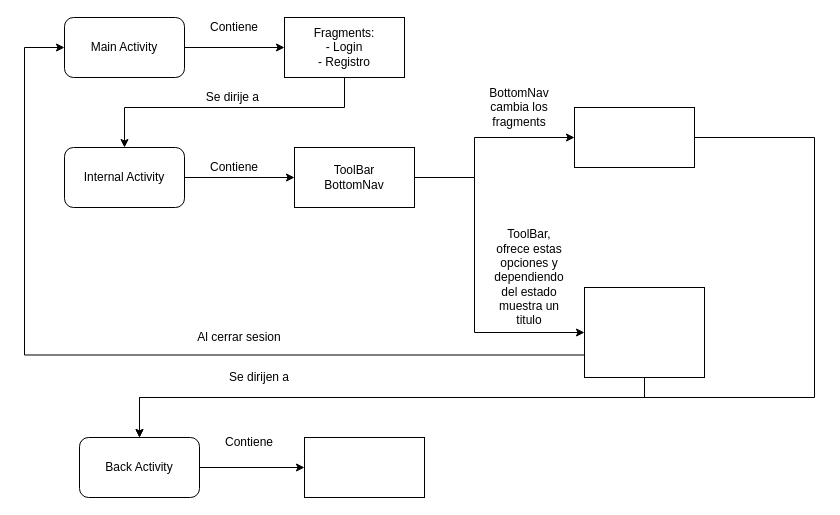
The diagram is 840 pixels wide and 515 high, and some of its shapes have lost their labels. The shapes that lost their labels are listed below. From the top down, each one's box as (x1, y1, x2, y2) in pixels, then its label:
(574, 106, 694, 168): Fragments: - Home - Search - Favorites
(584, 286, 704, 378): Nombre de Fragment Opciones: - Nuevo Producto - Settings -- Cerrar sesion
(304, 436, 424, 498): Fragments: - Product Profile - Nuevo producto - Settings
